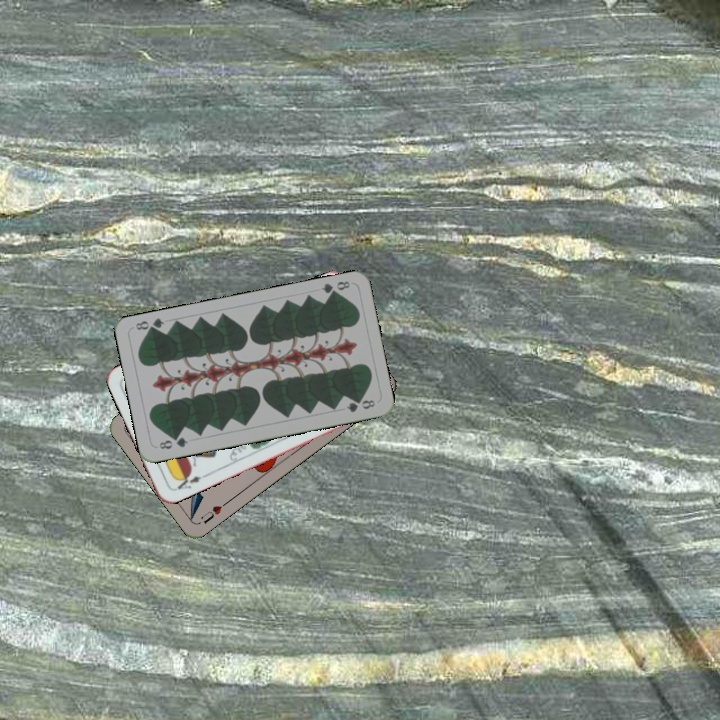EA: (171, 469, 209, 493)
G8: (317, 277, 353, 299), (155, 433, 190, 452)
HU: (196, 497, 231, 527)
